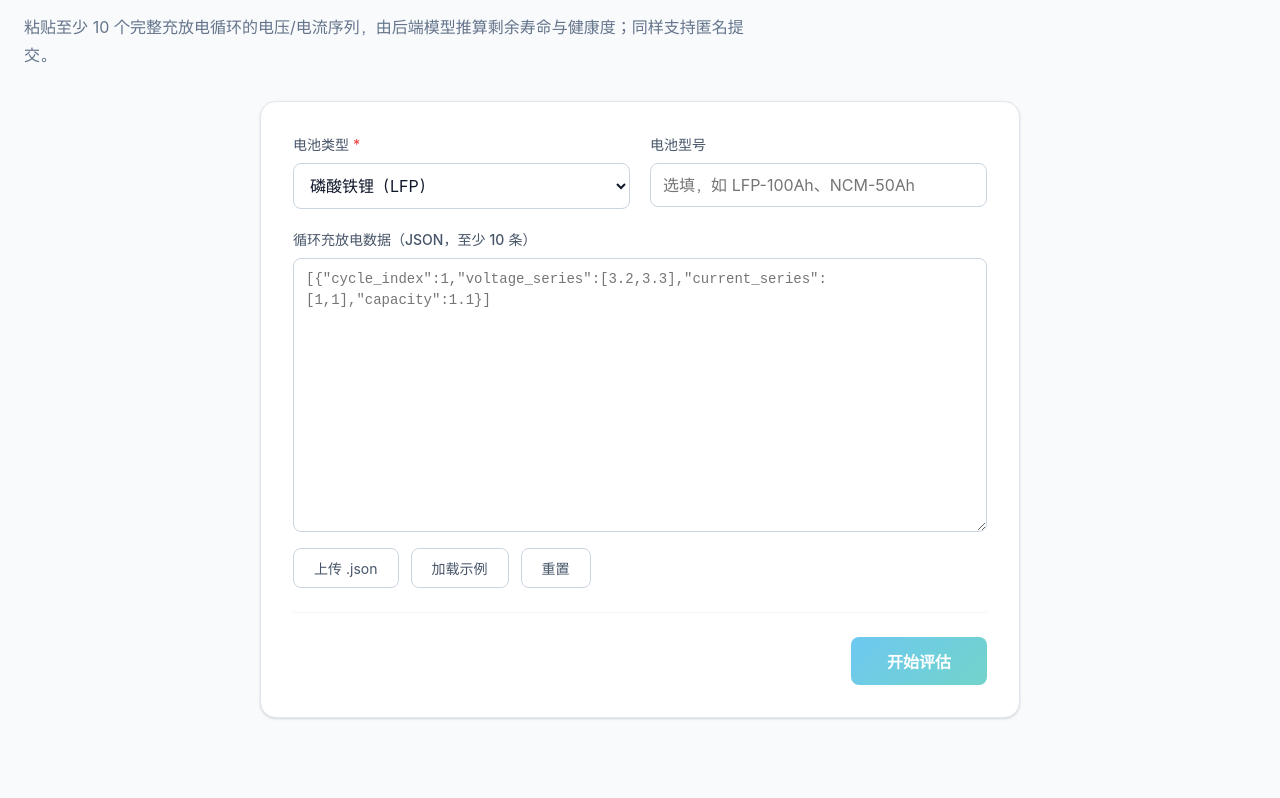
电池 RUL 评估页 › 载入示例数据后识别出 15 个循环，提交按钮可用
(page scrolled)
Click the button with test id "load-sample". click: (460, 568)
box: left=410, top=548, right=508, bottom=588
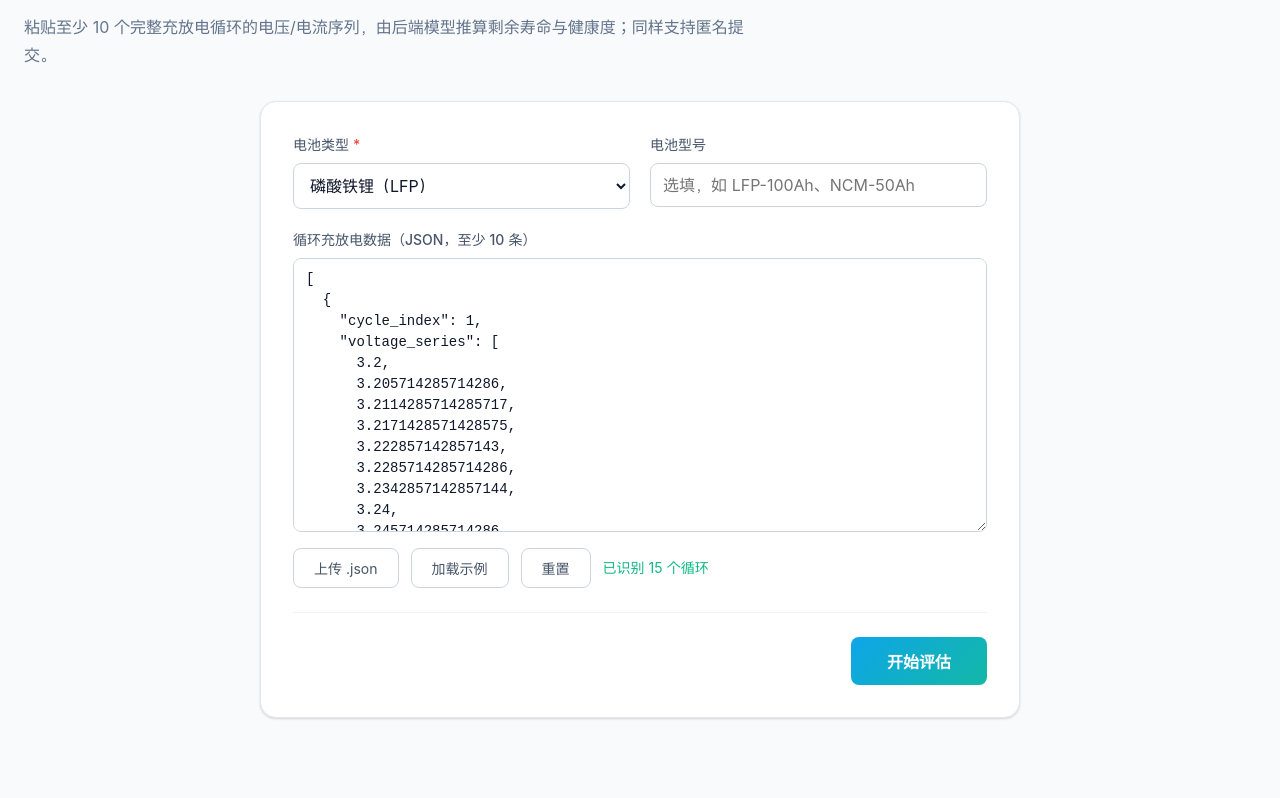
Now the text "已识别 15 个循环" is shown, box left=602, top=557, right=709, bottom=578
Now the button with test id "submit" is enabled, box left=851, top=636, right=987, bottom=684
